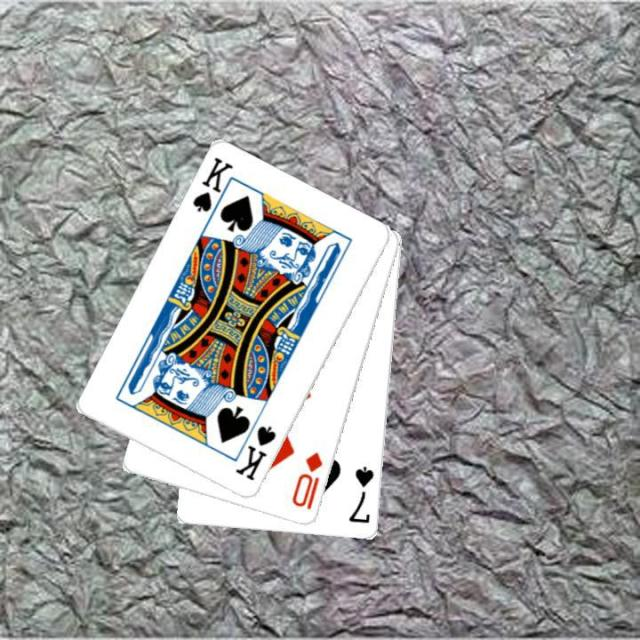10D: (288, 449, 324, 512)
7S: (345, 463, 376, 526)
KS: (188, 154, 236, 226), (232, 422, 278, 484)
